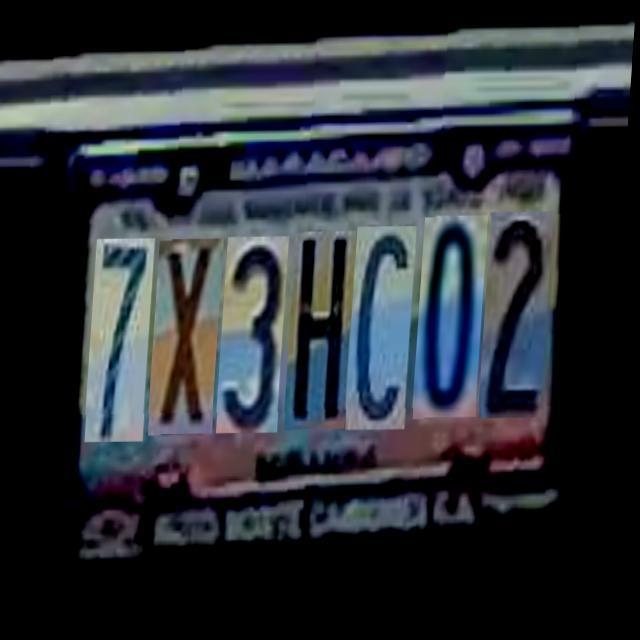2: (482, 214, 556, 420)
3: (220, 234, 292, 432)
7: (89, 234, 158, 438)
C: (350, 226, 420, 430)
H: (288, 231, 359, 429)
O: (416, 217, 491, 419)
X: (152, 236, 226, 432)
